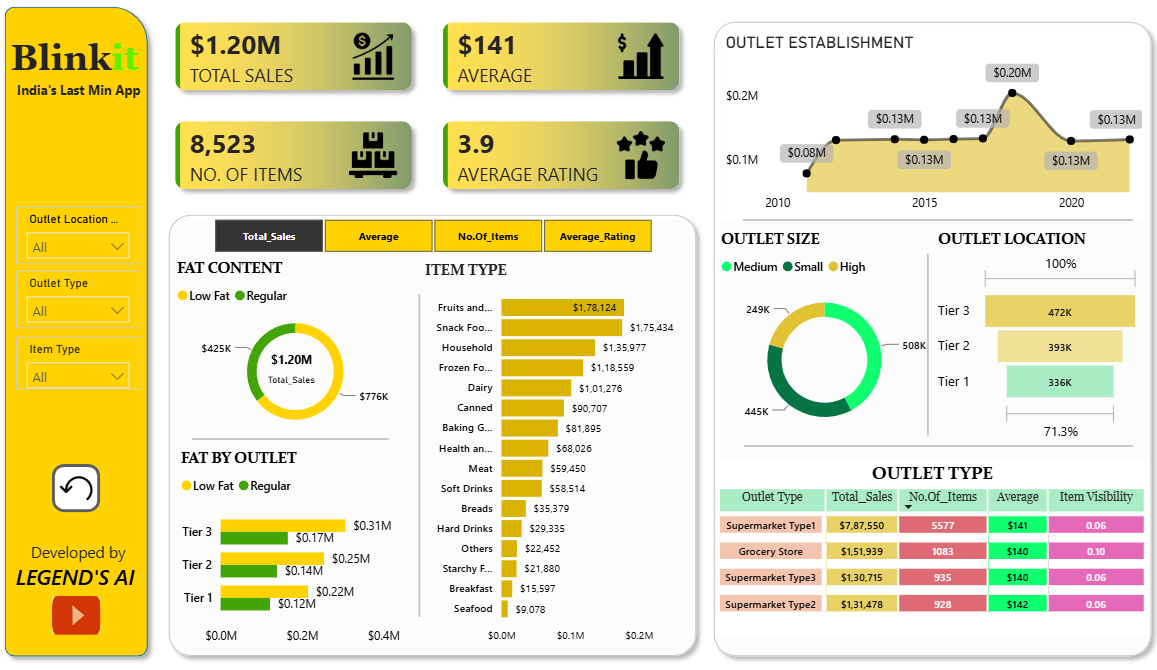

What the dashboard file says about the page in this screenshot:
{"tool":"powerbi","page":{"name":"DashBoard","canvas":[1200,700],"ordinal":0},"visuals":[{"type":"shape","box":[730.8,15.4,469.2,672.1],"z":0},{"type":"shape","box":[0,0,165.4,687.8],"z":1000},{"type":"textbox","box":[10.4,34.8,149.8,53.7],"z":1000,"group":"g1"},{"type":"cardVisual","fields":{"Data":["BlinkIT Grocery Data.Total_Sales","BlinkIT Grocery Data.Average","BlinkIT Grocery Data.No.Of_Items","BlinkIT Grocery Data.Average_Rating"]},"box":[159.6,0,571.2,222.1],"z":2000},{"type":"textbox","box":[11.8,81.1,148,28.7],"z":2000,"group":"g1"},{"type":"group","id":"g1","title":"Group 1","box":[10.4,34.8,149.8,75],"z":3000},{"type":"shape","box":[169.1,214.8,561.7,472.8],"z":4000},{"type":"slicer","fields":{"Values":["Matrix.Matrix"]},"box":[200.2,222,499.8,47],"z":5000},{"type":"donutChart","title":"FAT CONTENT","fields":{"Y":["BlinkIT Grocery Data.Total_Sales"],"Category":["BlinkIT Grocery Data.Item Fat Content"]},"box":[186.3,268.2,243.8,182],"z":6000},{"type":"card","fields":{"Values":["BlinkIT Grocery Data.Total_Sales"]},"box":[268.2,357,73.1,48.8],"z":7000},{"type":"clusteredBarChart","title":"FAT BY OUTLET","fields":{"Y":["BlinkIT Grocery Data.Total_Sales"],"Category":["BlinkIT Grocery Data.Outlet Location Type"],"Series":["BlinkIT Grocery Data.Item Fat Content"]},"box":[185.6,463.5,244.2,211.5],"z":8000},{"type":"shape","box":[202,446.6,202.9,16.5],"z":9000},{"type":"shape","box":[430.1,304.7,13.1,333.5],"z":10000},{"type":"barChart","title":"ITEM TYPE ","fields":{"Y":["BlinkIT Grocery Data.Total_Sales"],"Category":["BlinkIT Grocery Data.Item Type"]},"box":[437.1,269.9,283,404.9],"z":11000},{"type":"lineChart","title":"OUTLET ESTABLISHMENT","fields":{"Y":["BlinkIT Grocery Data.Total_Sales"],"Category":["BlinkIT Grocery Data.Outlet Establishment Year"]},"box":[747.1,34.6,439.4,194.2],"z":12000},{"type":"shape","box":[770.2,221.2,401.9,14.4],"z":13000},{"type":"donutChart","title":"OUTLET SIZE ","fields":{"Y":["Sum(BlinkIT Grocery Data.Sales)"],"Category":["BlinkIT Grocery Data.Outlet Size"]},"box":[747,237.7,213.3,217.7],"z":14000},{"type":"shape","box":[954.2,263.8,12.2,187.2],"z":15000},{"type":"funnel","title":"OUTLET LOCATION","fields":{"Y":["Sum(BlinkIT Grocery Data.Sales)"],"Category":["BlinkIT Grocery Data.Outlet Location Type"]},"box":[970.8,237.7,208.1,217.7],"z":16000},{"type":"shape","box":[771.4,455.3,401.4,12.2],"z":17000},{"type":"pivotTable","title":"OUTLET TYPE","fields":{"Rows":["BlinkIT Grocery Data.Outlet Type"],"Values":["BlinkIT Grocery Data.Total_Sales","BlinkIT Grocery Data.No.Of_Items","BlinkIT Grocery Data.Average","Avg(BlinkIT Grocery Data.Item Visibility)"]},"box":[740.9,478.9,448.4,177.6],"z":18000},{"type":"slicer","fields":{"Values":["BlinkIT Grocery Data.Outlet Location Type"]},"box":[20.9,215,128,59.2],"z":19000},{"type":"slicer","fields":{"Values":["BlinkIT Grocery Data.Outlet Type"]},"box":[20.9,281.2,128,59.2],"z":20000},{"type":"slicer","fields":{"Values":["BlinkIT Grocery Data.Item Type"]},"box":[20.9,349.1,128,54],"z":21000},{"type":"actionButton","box":[0,0,100,40],"z":22000},{"type":"actionButton","box":[57.5,480.6,49.6,49.6],"z":23000},{"type":"textbox","box":[15.7,555.5,138.4,67],"z":24000},{"type":"actionButton","box":[57.5,616.4,49.6,40],"z":25000}]}

Visuals, with their boxes in screenshot pixels (x1, y1, x2, y2), scaled from the page's 1200x700 canvas onto the 1157x670 screenshot:
shape: locate(705, 15, 1156, 658)
shape: locate(0, 0, 159, 658)
textbox: locate(10, 33, 154, 85)
cardVisual - BlinkIT Grocery Data.Total_Sales x BlinkIT Grocery Data.Average: locate(154, 0, 705, 213)
textbox: locate(11, 78, 154, 105)
"Group 1" group: locate(10, 33, 154, 105)
shape: locate(163, 206, 705, 658)
slicer - Matrix.Matrix: locate(193, 212, 675, 257)
"FAT CONTENT" donutChart: locate(180, 257, 415, 431)
card - BlinkIT Grocery Data.Total_Sales: locate(259, 342, 329, 388)
"FAT BY OUTLET" clusteredBarChart: locate(179, 444, 414, 646)
shape: locate(195, 427, 390, 443)
shape: locate(415, 292, 427, 611)
"ITEM TYPE " barChart: locate(421, 258, 694, 646)
"OUTLET ESTABLISHMENT" lineChart: locate(720, 33, 1144, 219)
shape: locate(743, 212, 1130, 226)
"OUTLET SIZE " donutChart: locate(720, 228, 926, 436)
shape: locate(920, 252, 932, 432)
"OUTLET LOCATION" funnel: locate(936, 228, 1137, 436)
shape: locate(744, 436, 1131, 447)
"OUTLET TYPE" pivotTable: locate(714, 458, 1147, 628)
slicer - BlinkIT Grocery Data.Outlet Location Type: locate(20, 206, 144, 262)
slicer - BlinkIT Grocery Data.Outlet Type: locate(20, 269, 144, 326)
slicer - BlinkIT Grocery Data.Item Type: locate(20, 334, 144, 386)
actionButton: locate(0, 0, 96, 38)
actionButton: locate(55, 460, 103, 507)
textbox: locate(15, 532, 149, 596)
actionButton: locate(55, 590, 103, 628)
